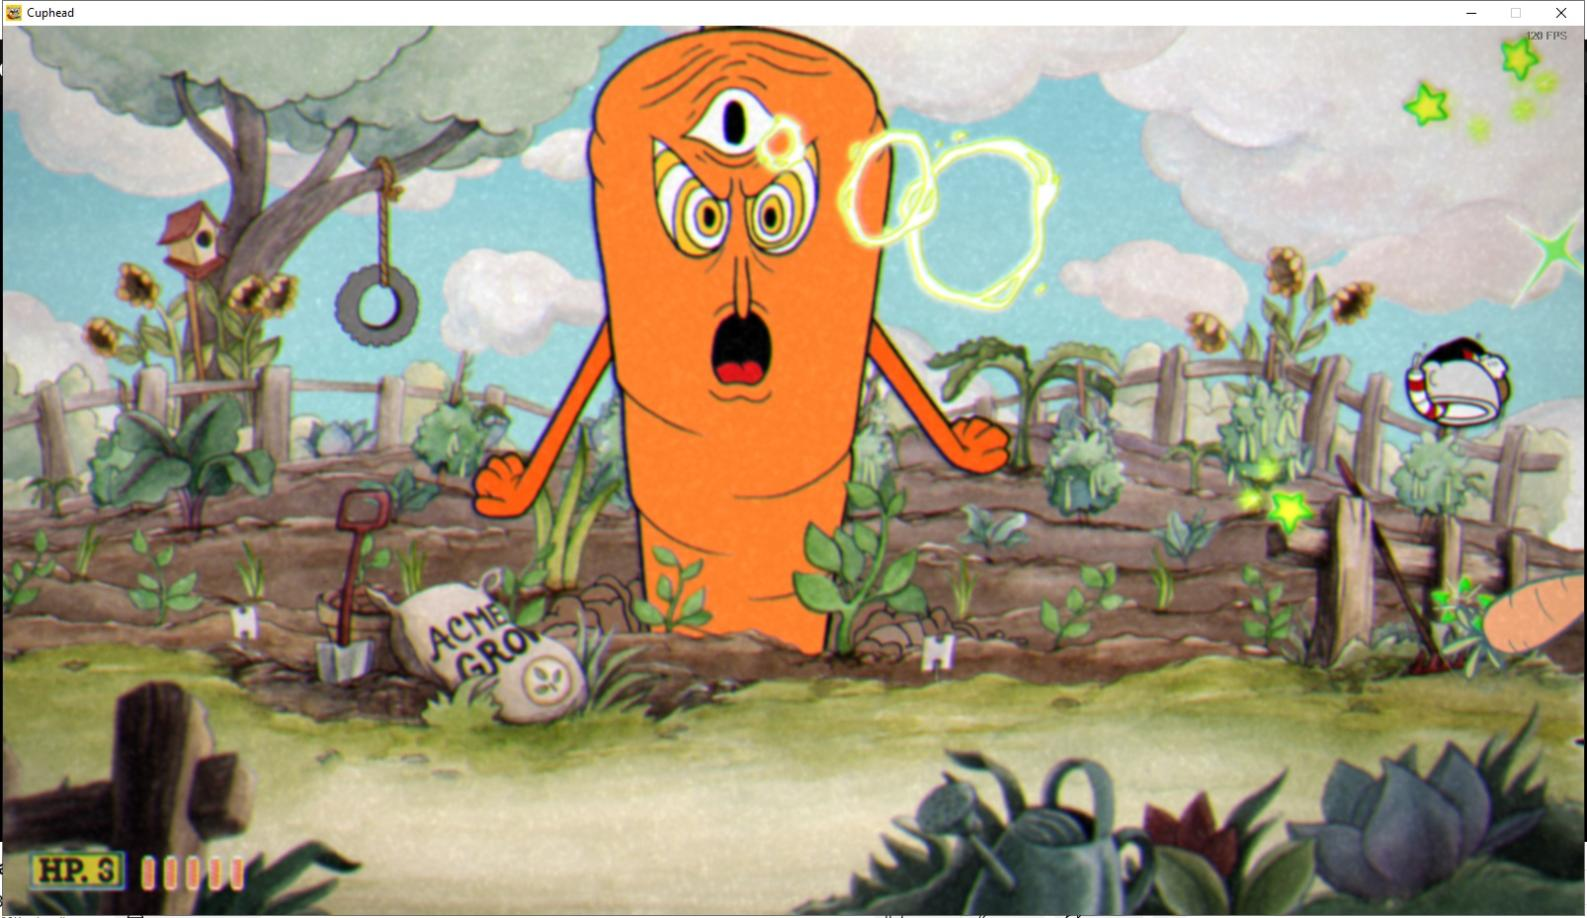carrot: (1437, 534, 1587, 680)
hp3: (94, 852, 125, 890)
player: (1387, 324, 1524, 438)
ring: (905, 130, 1078, 323), (837, 125, 954, 252), (750, 110, 816, 179)
